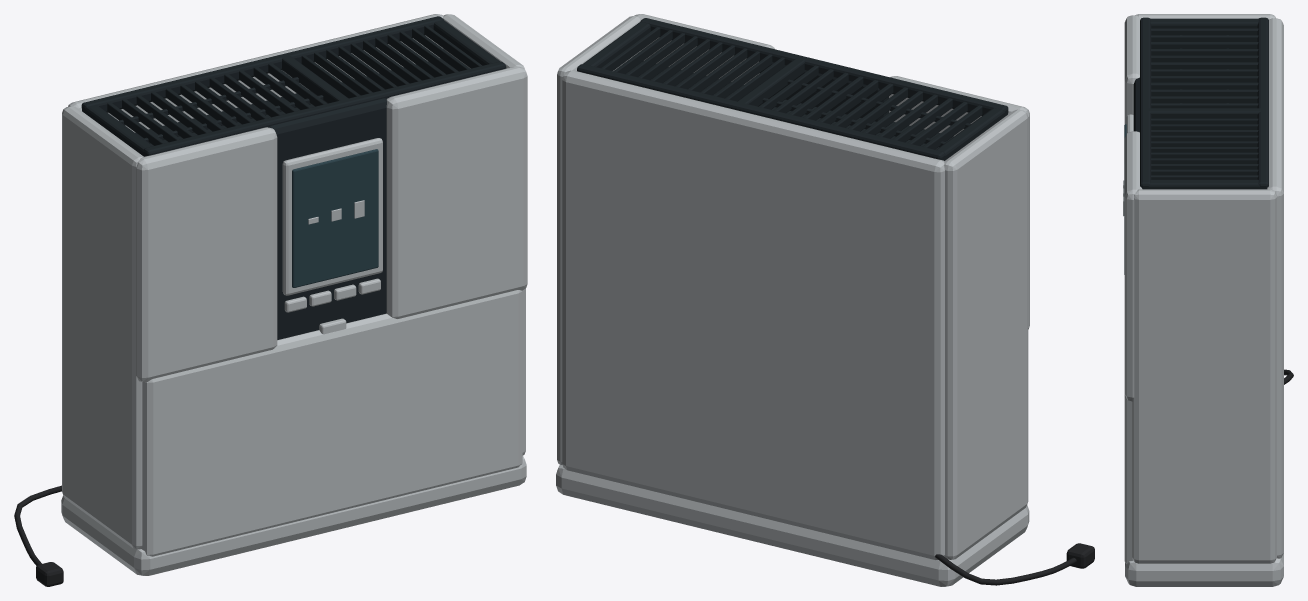
Rendered from A-NEW-20261026-AIR-PURIFIER-001_LOD2_R2.fbx.
3 views of the same model, side by side, from view 1: azimuth 30°, elevation 25°; view 2: azimuth 150°, elevation 25°; view 3: azimuth 270°, elevation 25° (orthographic). The views are drawn at different scales.
Parts seen in each view (by area): view 1: wide lower front, left front shoulder, right front shoulder, left sidewall, portrait dark display, main housing, deep central console, exhaust edge rail 1, portrait screen surround, exhaust edge rail -1, plain rear panel, right sidewall (+16 smaller); view 2: plain rear panel, left sidewall, main housing, exhaust edge rail -1, exhaust edge rail 1, right sidewall, left front shoulder, split exhaust divider, exhaust end rail -1, exhaust end rail 1, rear power cable, right front shoulder (+4 smaller); view 3: right sidewall, plain rear panel, main housing, right front shoulder, exhaust edge rail -1, exhaust edge rail 1, left front shoulder, wide lower front, split exhaust divider, exhaust end rail 1, exhaust end rail -1, left exhaust slat 04 (+24 smaller).
Part boxes in pixels (<box>): wide lower front: <box>141,290,522,556</box>; left front shoulder: <box>136,127,277,381</box>; right front shoulder: <box>386,66,527,318</box>; left sidewall: <box>62,106,143,549</box>; portrait dark display: <box>292,149,378,287</box>; main housing: <box>61,456,526,575</box>; deep central console: <box>269,98,386,339</box>; exhaust edge rail 1: <box>81,16,443,112</box>; portrait screen surround: <box>282,138,382,295</box>; exhaust edge rail -1: <box>143,61,506,156</box>; plain rear panel: <box>68,14,443,132</box>; right sidewall: <box>443,14,525,455</box>; plain rear panel: <box>562,70,944,560</box>; left sidewall: <box>944,109,1028,559</box>; main housing: <box>556,465,1029,586</box>; exhaust edge rail -1: <box>640,18,1008,116</box>; exhaust edge rail 1: <box>577,64,945,160</box>; right sidewall: <box>557,15,640,464</box>; left front shoulder: <box>889,76,1029,329</box>; split exhaust divider: <box>737,57,805,106</box>; exhaust end rail -1: <box>936,108,1005,160</box>; exhaust end rail 1: <box>583,22,650,68</box>; rear power cable: <box>935,554,1076,585</box>; right front shoulder: <box>634,14,774,84</box>; right sidewall: <box>1132,189,1276,563</box>; plain rear panel: <box>1267,18,1283,558</box>; main housing: <box>1125,553,1283,586</box>; right front shoulder: <box>1124,131,1142,401</box>; exhaust edge rail -1: <box>1140,17,1151,189</box>; exhaust edge rail 1: <box>1257,17,1268,189</box>; left front shoulder: <box>1124,15,1140,124</box>; wide lower front: <box>1124,395,1133,563</box>; split exhaust divider: <box>1145,108,1260,118</box>; exhaust end rail 1: <box>1148,179,1260,189</box>; exhaust end rail -1: <box>1150,18,1258,28</box>; left exhaust slat 04: <box>1151,55,1258,62</box>.
Size of the model in its own units: 55.2 by 47.3 by 18.29.
